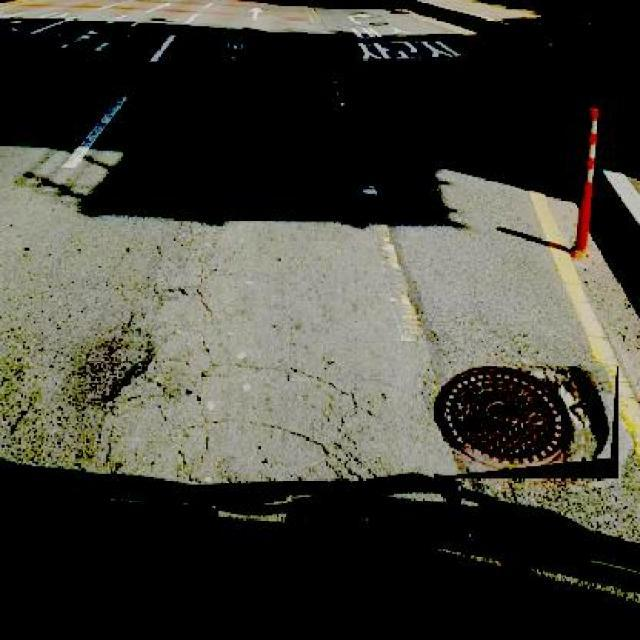Manhole: (435, 366, 620, 479)
